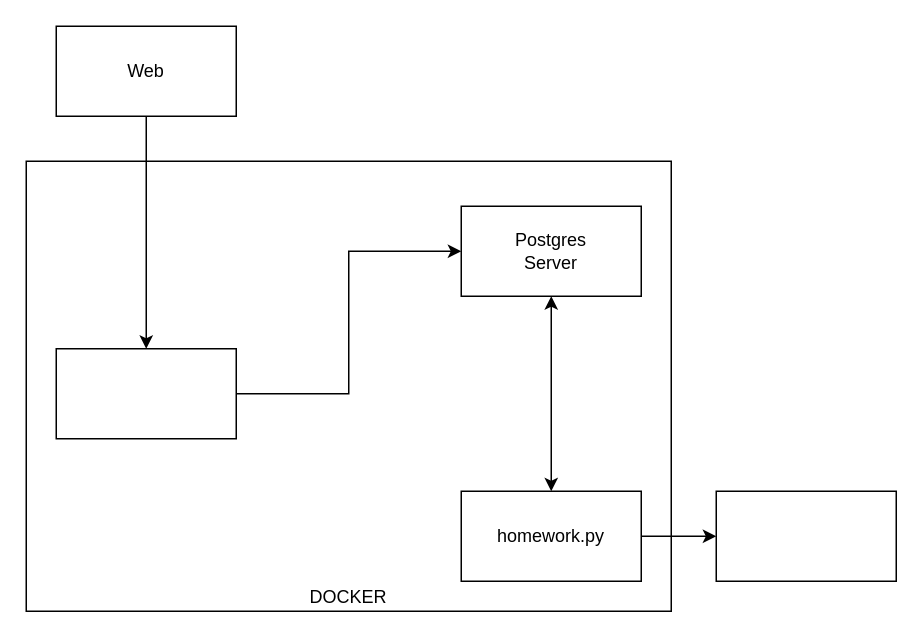
Some shapes in this 923 by 638 pixel diagram are drawn without their labels. The shapes that lost their labels are listed below. From the top down, each one's box as (x1, y1, x2, y2) in pixels, then its label:
(55, 347, 236, 439): etl.py
(715, 490, 896, 581): results.txt
